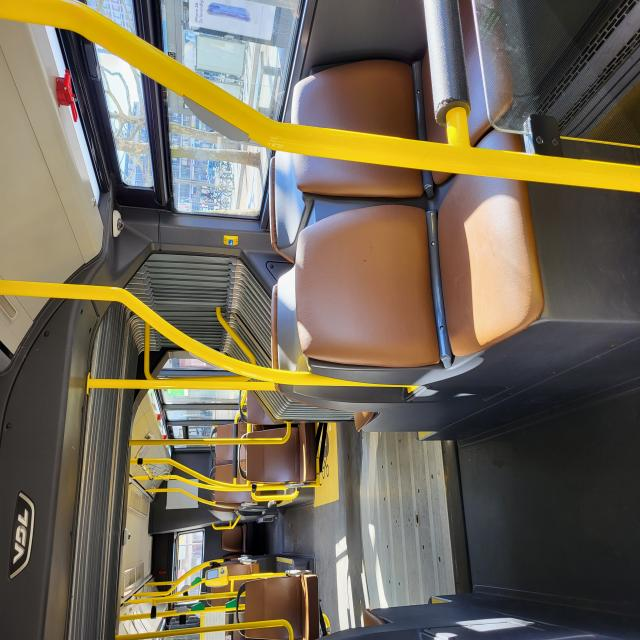asiento-libre: (202, 390, 381, 640), (331, 387, 480, 640), (0, 325, 51, 428), (117, 326, 163, 424), (100, 285, 134, 335), (131, 285, 163, 332), (161, 328, 189, 379), (45, 286, 63, 349), (65, 294, 88, 332)
